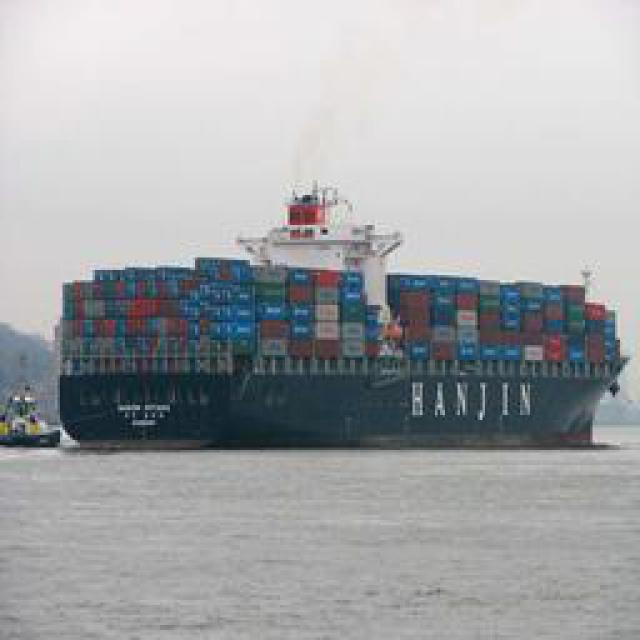Ship: (55, 176, 640, 456), (1, 395, 61, 448)
